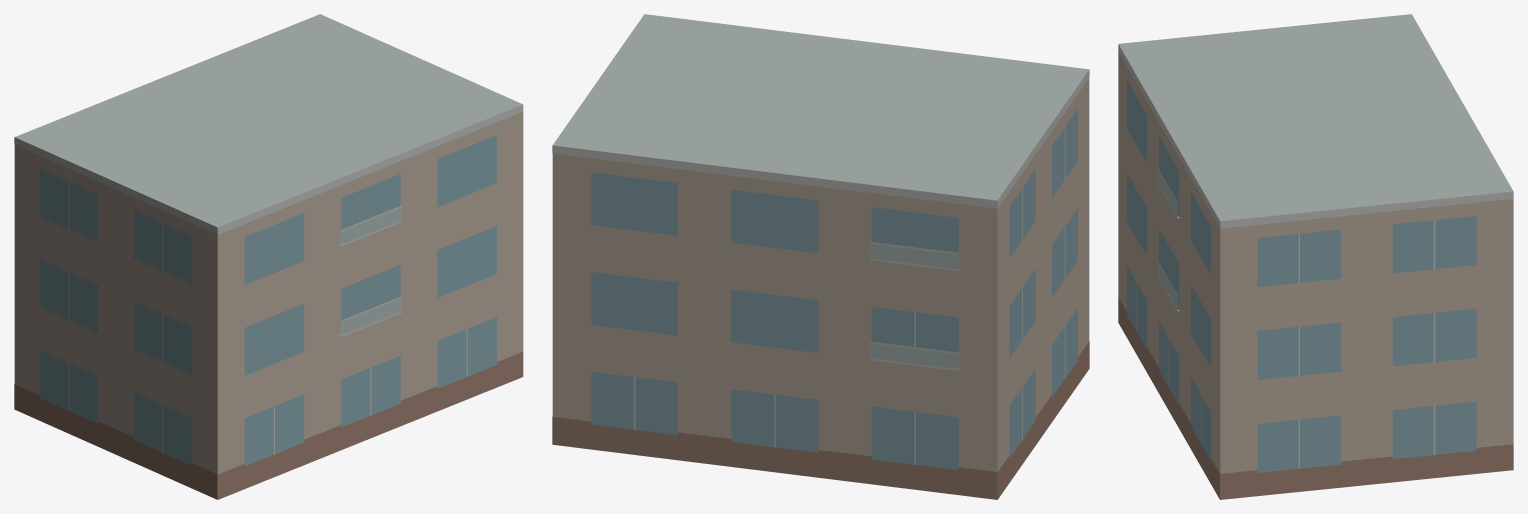
Rendered from survey-upis-33031586.glb.
3 views of the same model, side by side, from view 1: azimuth 30°, elevation 25°; view 2: azimuth 150°, elevation 25°; view 3: azimuth 270°, elevation 25° (orthographic). The views are drawn at different scales.
Visible parts, largest first — view 1: survey-upis-33031586.tmp; view 2: survey-upis-33031586.tmp; view 3: survey-upis-33031586.tmp.
Boxes of the visible parts, x1,y1,x2,y2 form: survey-upis-33031586.tmp: (14, 14, 523, 499); survey-upis-33031586.tmp: (552, 14, 1089, 499); survey-upis-33031586.tmp: (1118, 14, 1513, 499).
Size of the model in its own units: 14.6 by 9.15 by 11.77.
